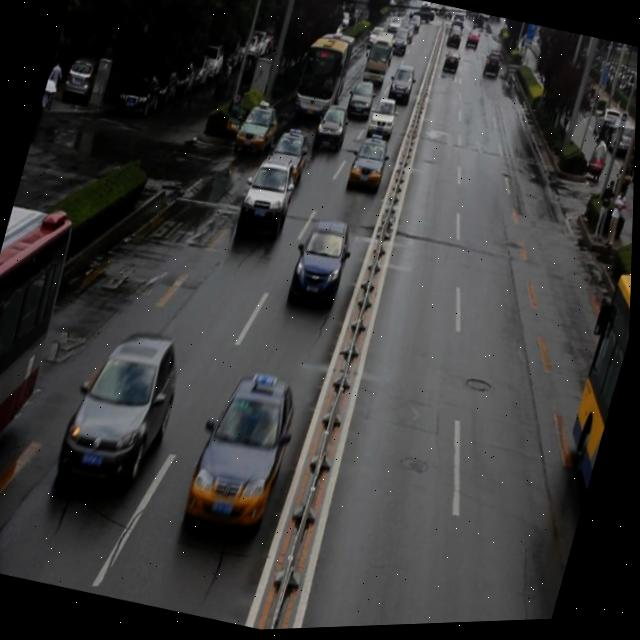car: (57, 324, 191, 498), (185, 366, 302, 539), (287, 216, 357, 312), (234, 152, 302, 245), (262, 127, 314, 191), (234, 97, 284, 161), (346, 134, 393, 195), (309, 99, 353, 159), (364, 96, 403, 147), (344, 80, 378, 126)
van: (523, 260, 634, 609), (0, 196, 85, 509), (290, 25, 358, 126)
